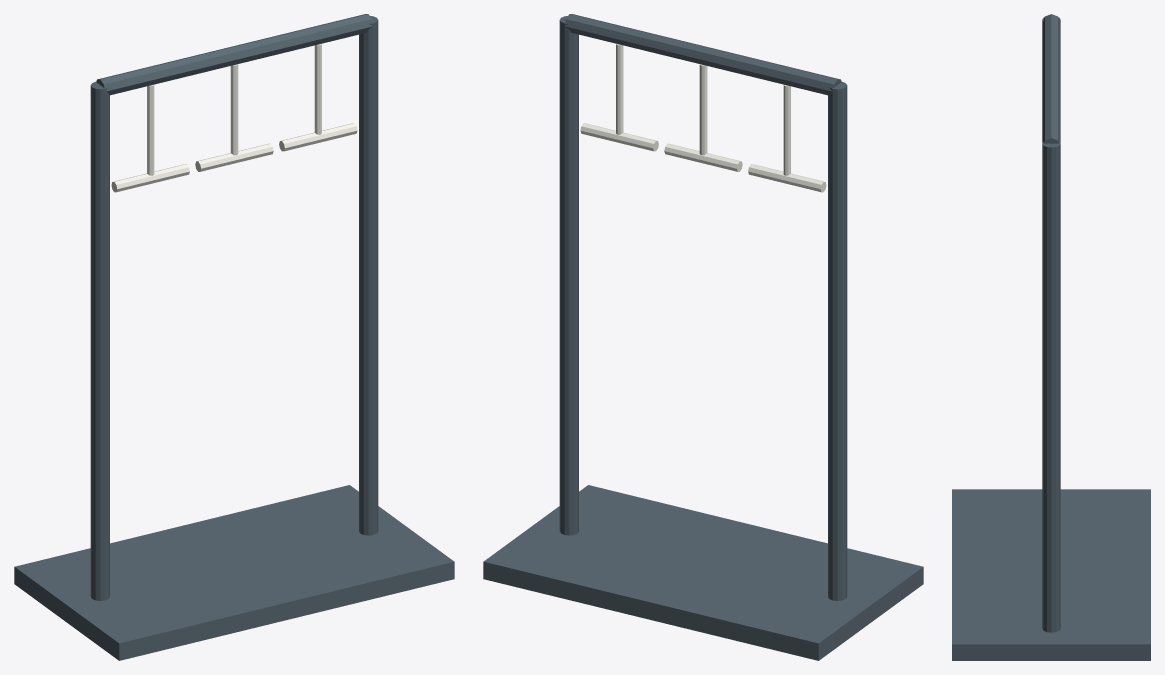
The model's file is american-football-stadium-kit-shoulder-pad-rack-5bfbdb6f__22385.glb.
The picture shows the model from 3 angles, left to right: view 1: azimuth 30°, elevation 25°; view 2: azimuth 150°, elevation 25°; view 3: azimuth 270°, elevation 25°; orthographic projection. The views are drawn at different scales.
Visible parts, largest first — view 1: shoulder-pad-rack; view 2: shoulder-pad-rack; view 3: shoulder-pad-rack.
Part boxes in pixels (bbox=[...]): shoulder-pad-rack: bbox=[14, 14, 454, 660]; shoulder-pad-rack: bbox=[483, 14, 923, 660]; shoulder-pad-rack: bbox=[952, 14, 1150, 660].
Size of the model in its own units: 1.2 by 1.83 by 0.6499.
